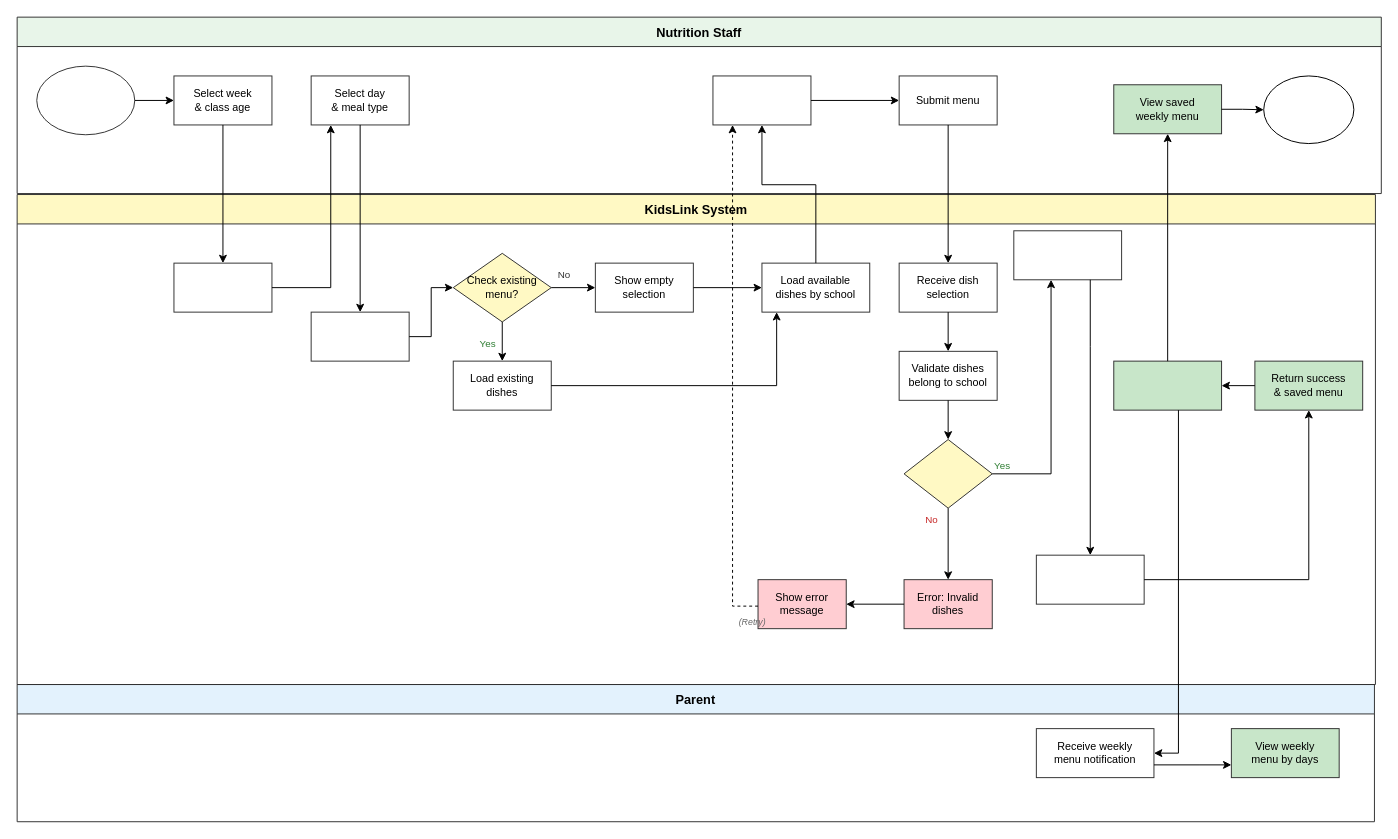
Image size: 1398x839. Some labels were removed from this diagram. Here are the shapes that lost their labels. From the top down, the centre of each, then its label:
At point 85,100: "Access weekly menu page".
At point 761,100: "Choose dishes from list".
At point 1308,109: "End".
At point 1067,255: "Find or create ClassAgeMeal".
At point 222,287: "Load week dates & class ages".
At point 359,336: "Load meal types & weekdays".
At point 1167,385: "Send menu to parents".
At point 947,473: "Valid?".
At point 1089,579: "Sync dishes (add/remove)".
